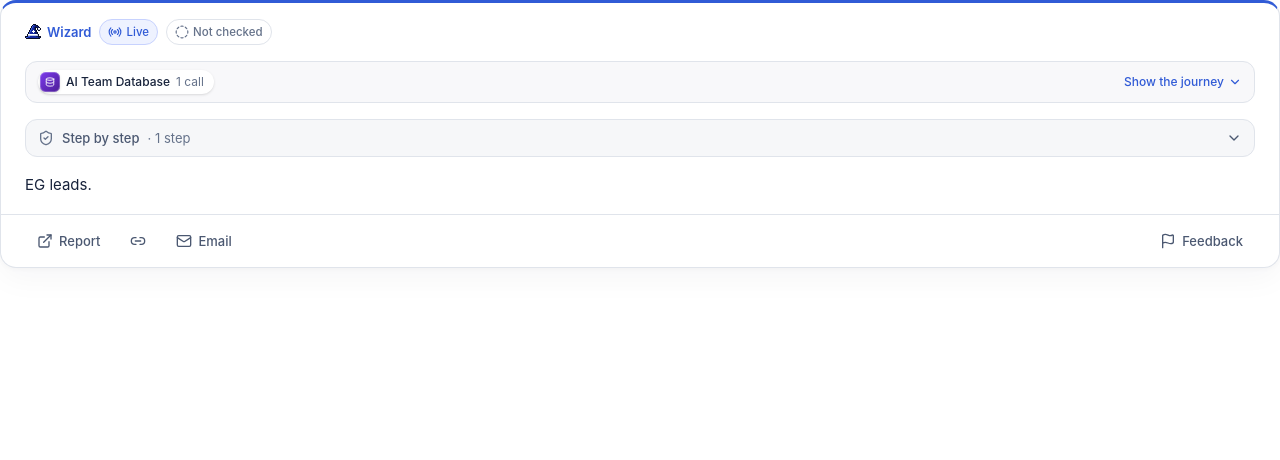
steering on the card › after the answer, Not this asks again; without live notes it says the run stops
The image size is (1280, 460).
Later steps or results of the test are not shown.
What coordinates should you click on to do the following:
click the button "Step by step · 1 step"
I would click on:
 (101, 138)
Its box is [26,120,1254,156].
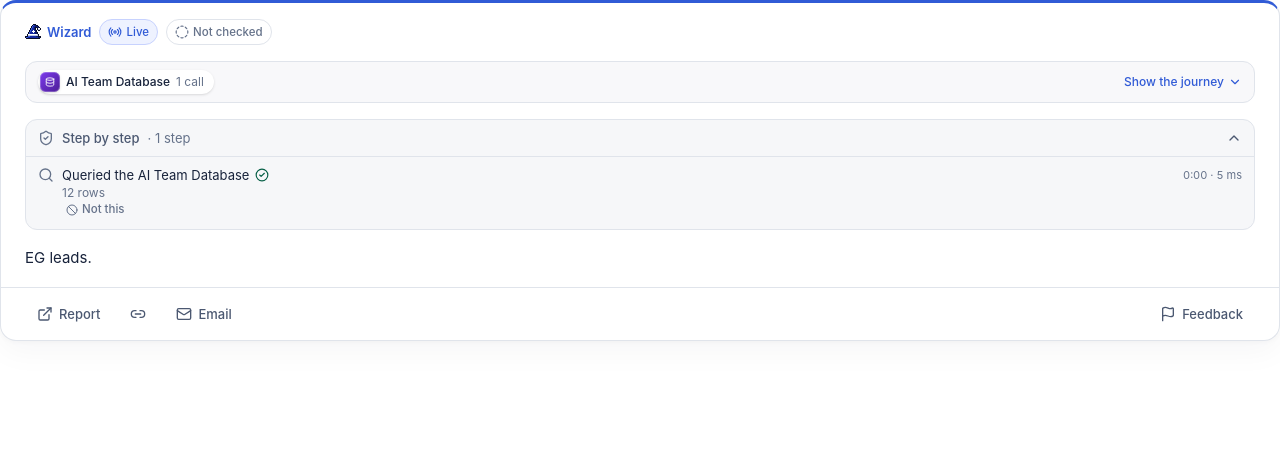
What coordinates should you click on to do the following:
click the button with test id "not-this"
I would click on:
 (95, 210)
Its box is [62,201,129,219].
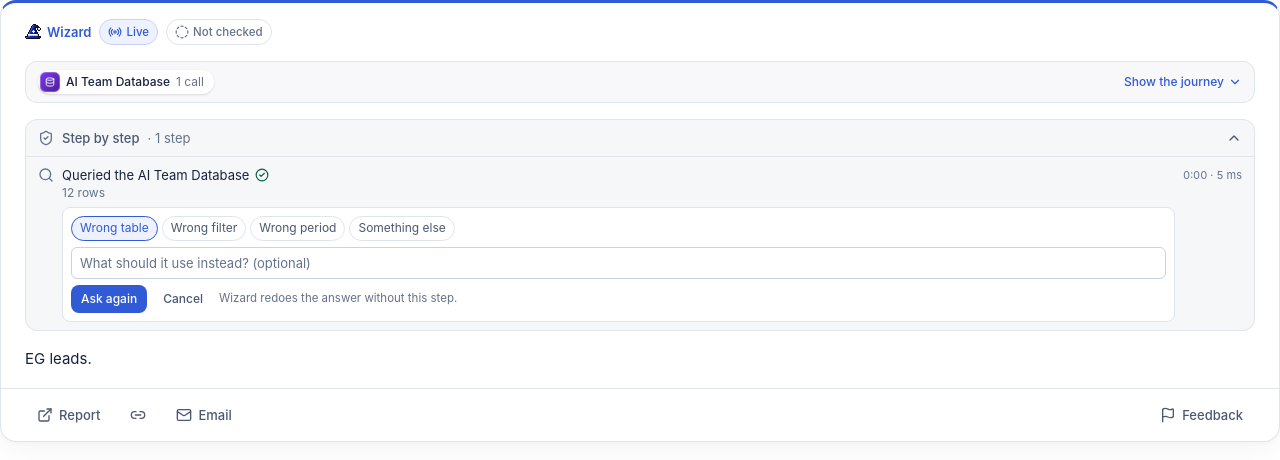
Expected: the button with test id "not-this-send" reads "Ask again", [71,285,147,313]
